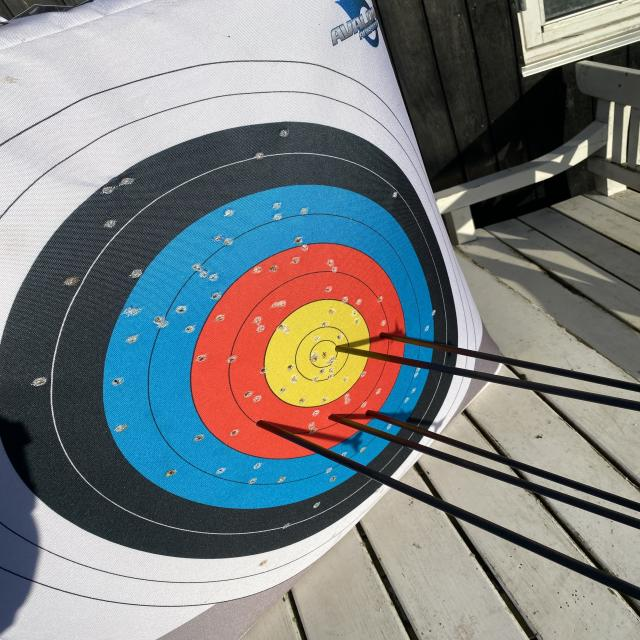Arrow_Red: (242, 410, 280, 435), (318, 406, 354, 432), (376, 321, 399, 351), (358, 404, 388, 424)
Arrow_Yellow: (329, 337, 352, 363)
